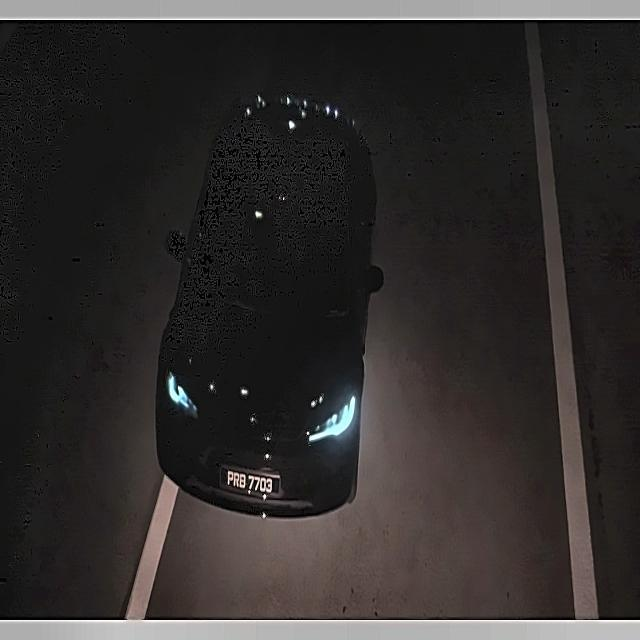car: (219, 459, 283, 507)
